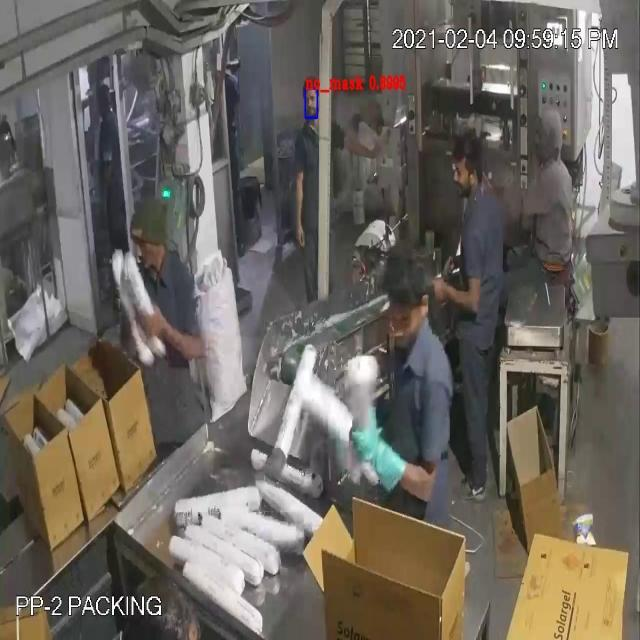No_Gloves: (29, 65, 456, 456)
